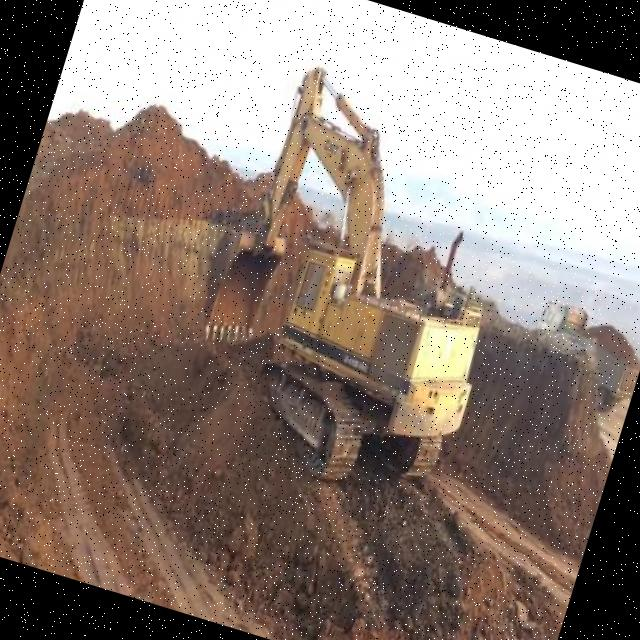Dump Truck: (518, 291, 640, 418)
Excavator: (159, 52, 552, 520)
